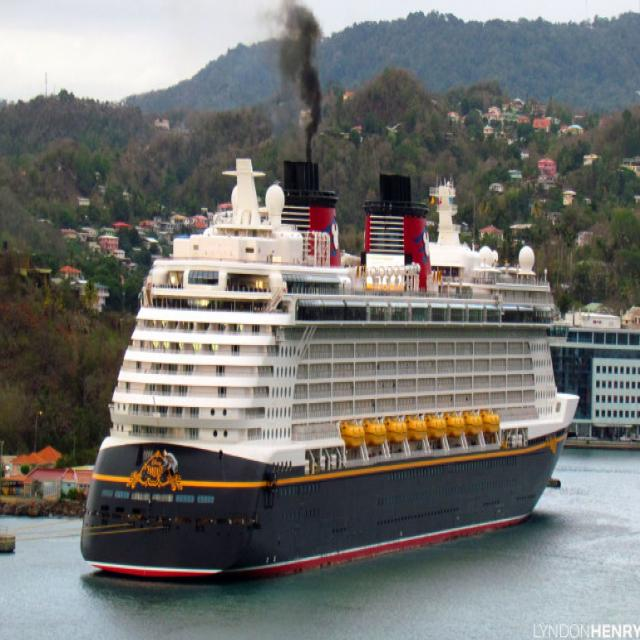cruises: (74, 123, 585, 582)
